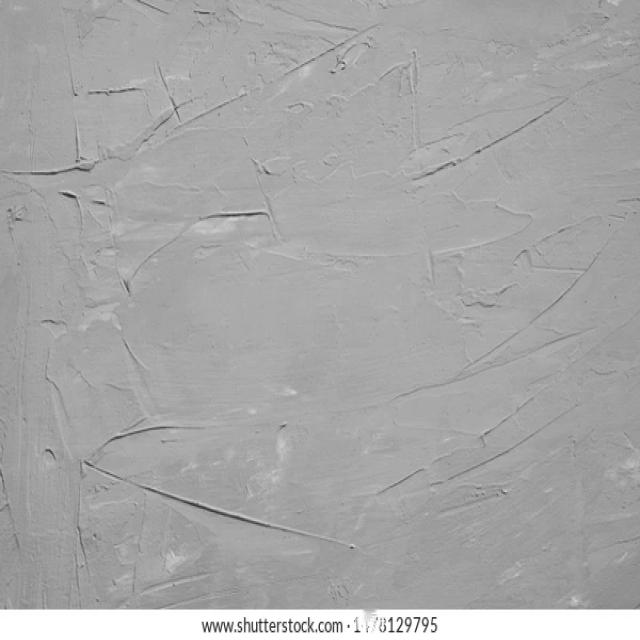rough and patchy surface: (4, 7, 634, 602)
